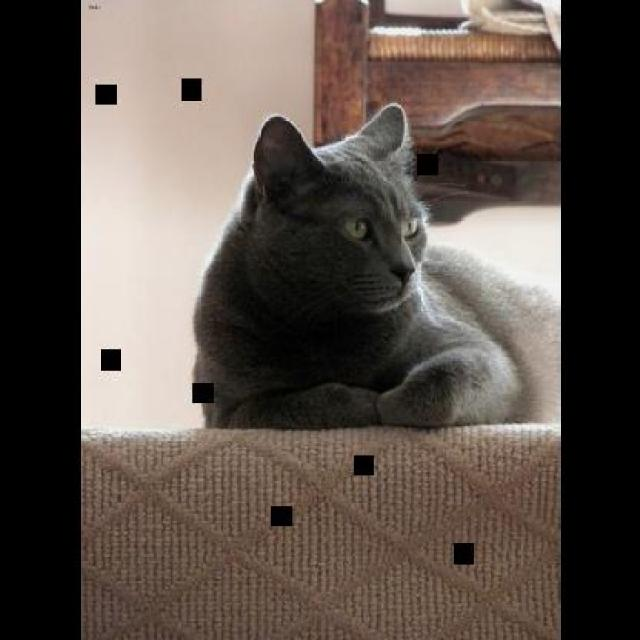unauthorized: (191, 100, 558, 429)
